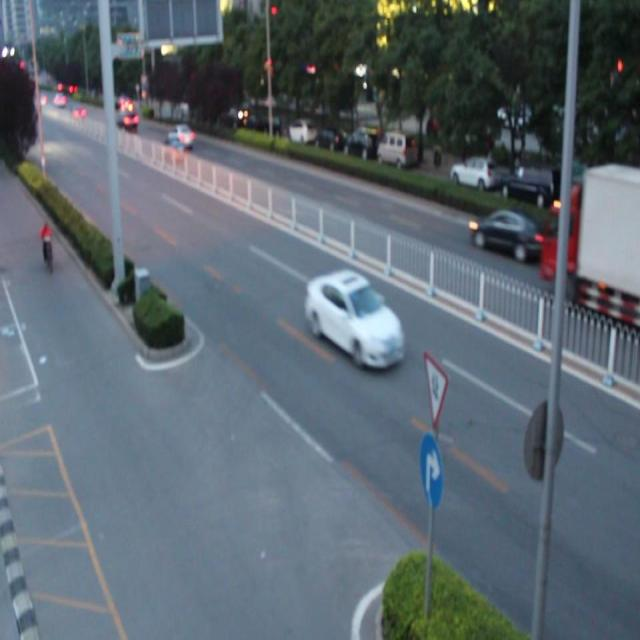bus: (538, 169, 640, 309)
car: (307, 272, 402, 370), (468, 208, 537, 259), (156, 139, 185, 169), (166, 124, 194, 150)
